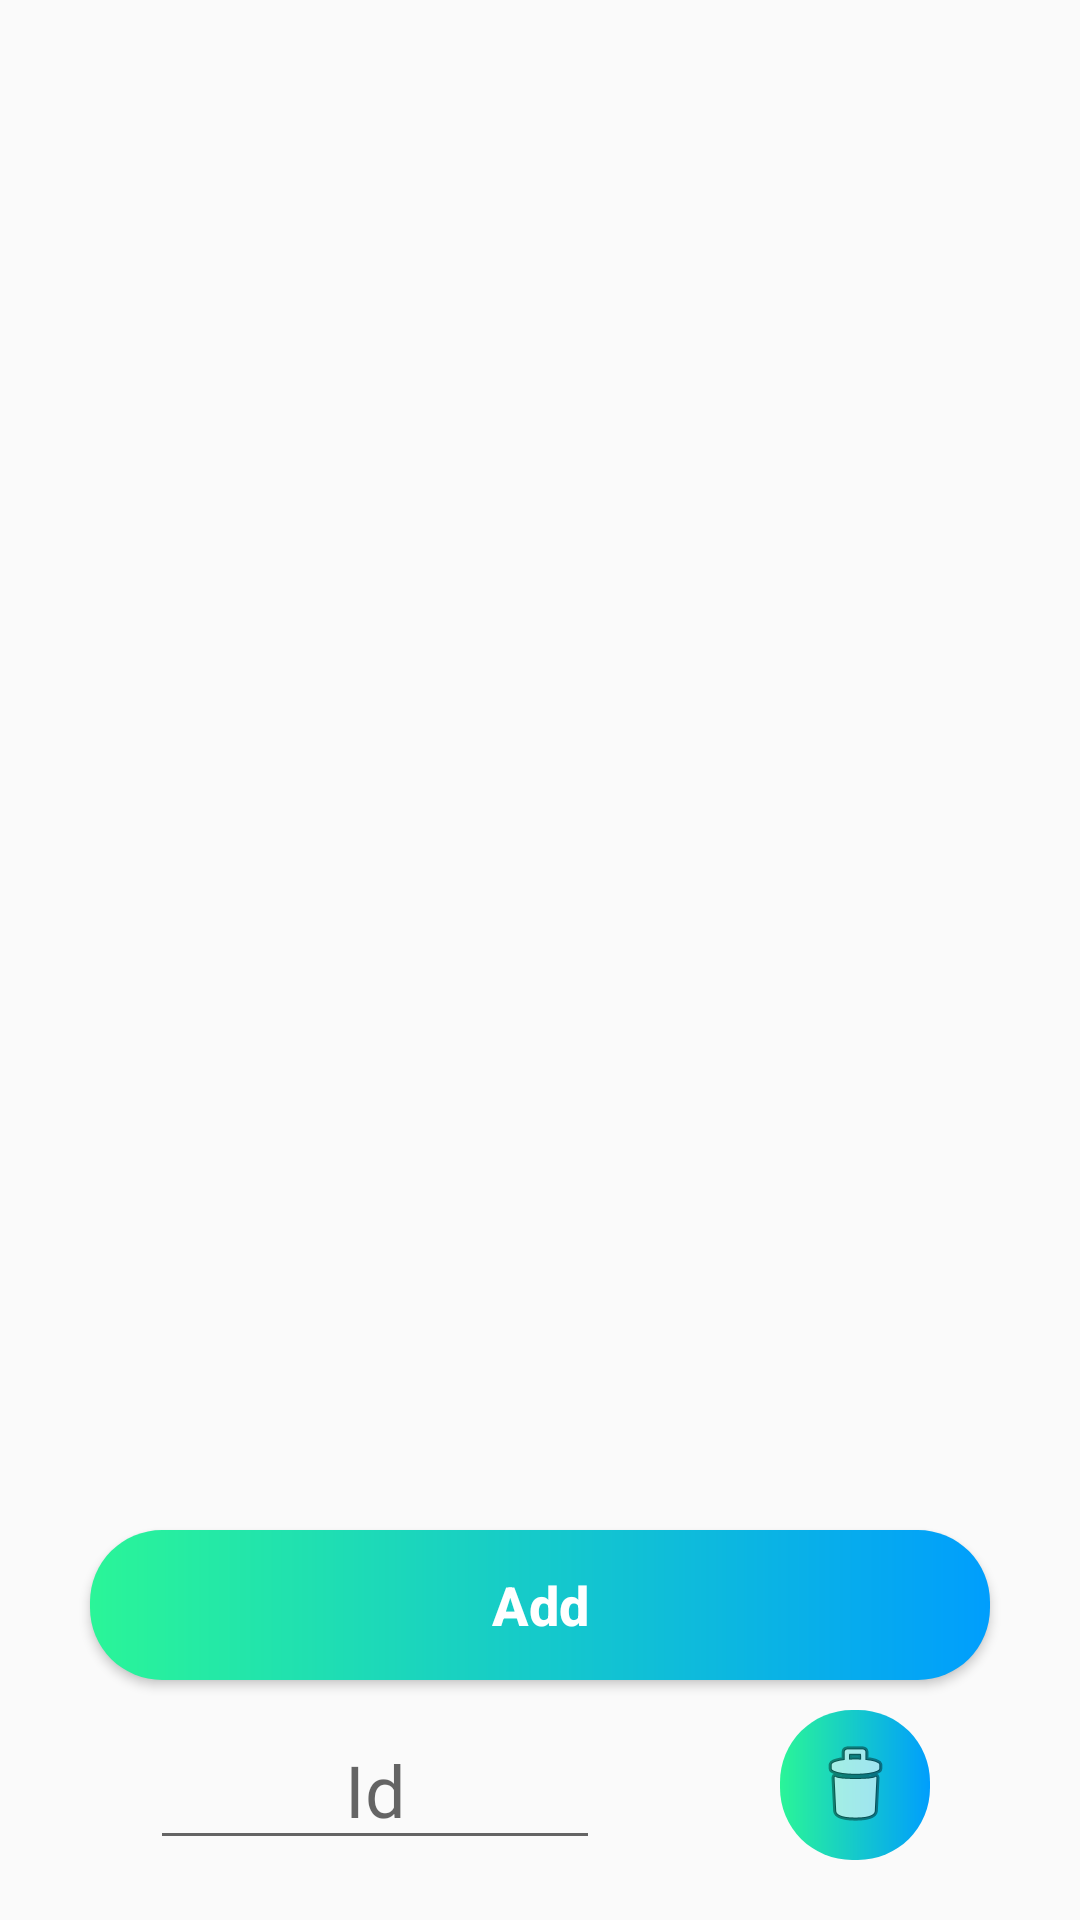

Named icons in this screenshot (1080x1920) and their bounding boxes, detection(x1, y1, x2, y2):
delete: detection(780, 1710, 930, 1860)
